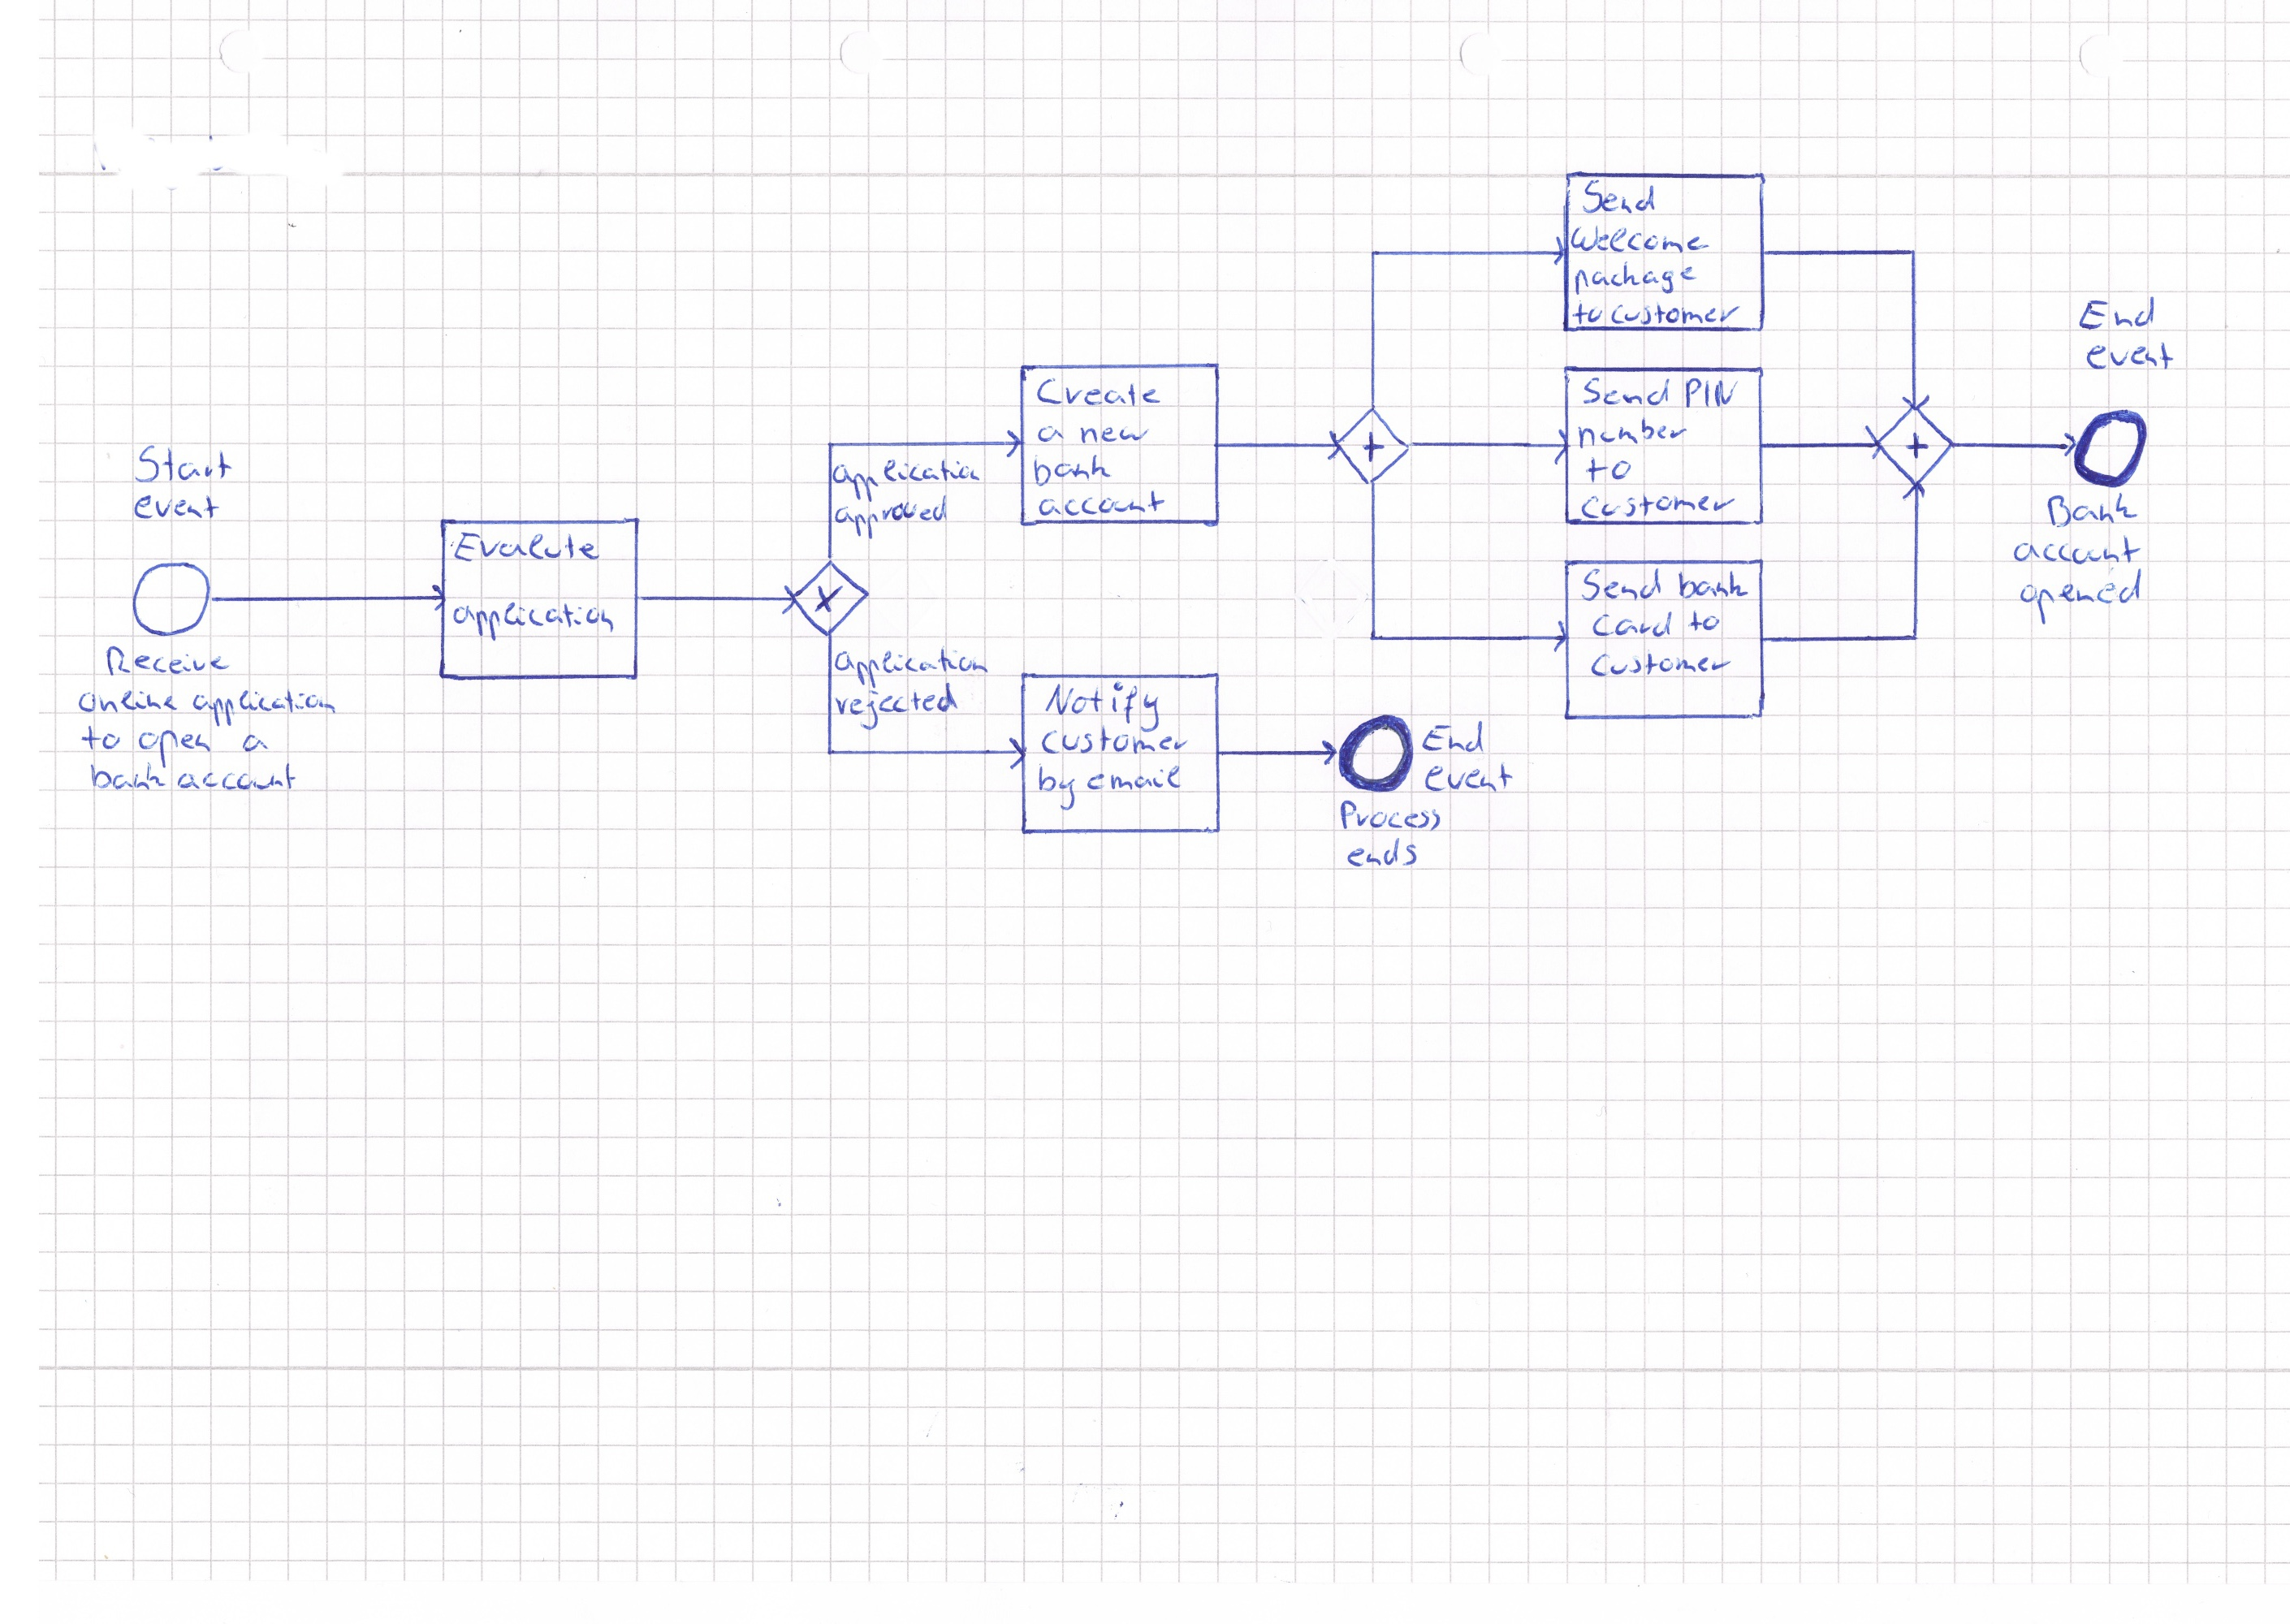Bank: (2044, 489, 2141, 536)
Create: (1030, 373, 1165, 413)
End: (2076, 292, 2158, 332), (1422, 719, 1489, 759)
Evaluate: (455, 529, 601, 568)
Notify: (1037, 684, 1174, 731)
PIN: (1682, 374, 1743, 411)
Process: (1334, 794, 1445, 838)
Receive: (102, 642, 241, 682)
Send: (1582, 374, 1677, 411), (1582, 568, 1673, 605), (1582, 178, 1664, 216)
Start: (135, 443, 232, 487)
Welcome: (1571, 216, 1712, 262)
a: (1028, 415, 1077, 452), (232, 728, 274, 759)
account: (2009, 529, 2144, 569), (172, 758, 299, 796), (1033, 489, 1165, 522)
application: (831, 443, 998, 499), (450, 598, 615, 643), (190, 678, 344, 724), (833, 647, 993, 687)
approved: (835, 494, 953, 540)
bank: (1026, 452, 1121, 487), (84, 759, 169, 796), (1678, 568, 1752, 603)
by: (1035, 765, 1081, 816)
card: (1591, 608, 1680, 643)
customer: (1582, 642, 1733, 689), (1580, 485, 1740, 522), (1039, 724, 1190, 763), (1606, 299, 1743, 330)
email: (1084, 763, 1188, 801)
ends: (1339, 835, 1431, 875)
event: (1422, 758, 1511, 798), (2084, 336, 2172, 374), (134, 490, 220, 524)
new: (1079, 415, 1151, 450)
number: (1575, 415, 1692, 462)
online: (76, 684, 179, 722)
open: (134, 722, 225, 766)
opened: (2018, 571, 2160, 631)
package: (1569, 260, 1699, 299)
rejected: (828, 682, 967, 728)
to: (1582, 455, 1636, 489), (79, 724, 128, 758), (1684, 605, 1728, 642), (1571, 294, 1608, 330)
